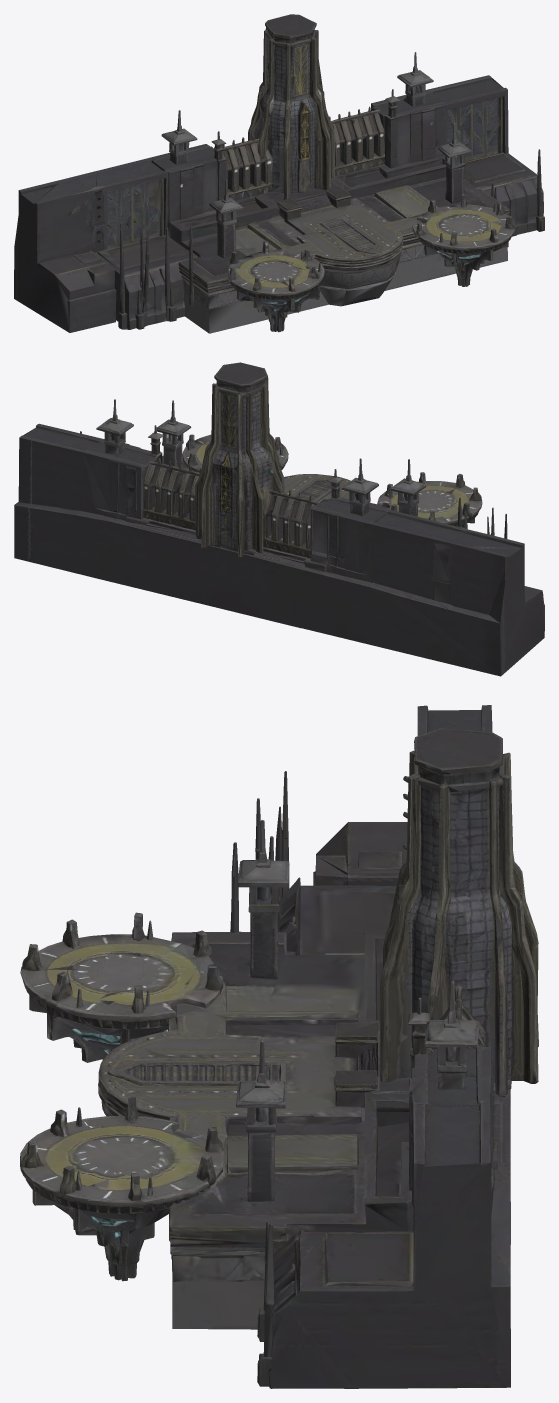
Rendered from catopalace.lod1.glb.
The picture shows the model from 3 angles, top to bottom: view 1: azimuth 30°, elevation 25°; view 2: azimuth 150°, elevation 25°; view 3: azimuth 270°, elevation 25°; orthographic projection. The views are drawn at different scales.
Parts seen in each view (by area): view 1: catopalace-centred; view 2: catopalace-centred; view 3: catopalace-centred.
Boxes of the visible parts, left/top/right/bottom form: catopalace-centred: left=14, top=14, right=544, bottom=333; catopalace-centred: left=14, top=362, right=544, bottom=676; catopalace-centred: left=20, top=705, right=538, bottom=1388.
Bounding box in the file's own units: 90 × 40.24 × 42.99.
1 material, 1 textured.
